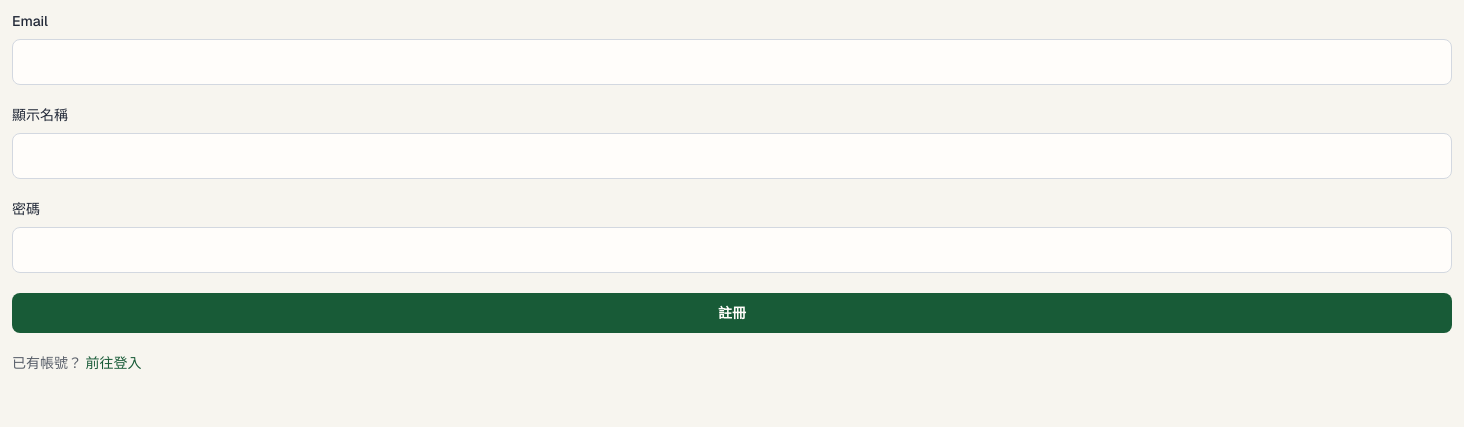
Test case: RegisterForm › 送出後 MSW 回 EMAIL_ALREADY_USED 時顯示對應錯誤文字
The image size is (1464, 427).
Step 1. Type "duplicate@example.com" into the field labelled "Email" → (732,62), box [12, 39, 1452, 85]
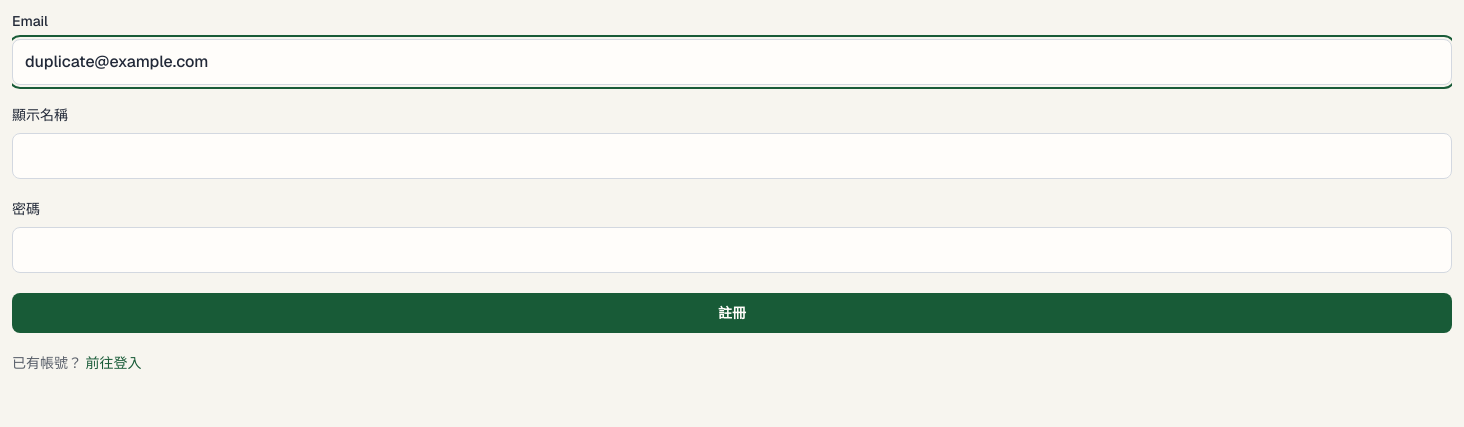
Step 2. Type "重複使用者" into the field labelled "顯示名稱" → (732,156), box [12, 133, 1452, 179]
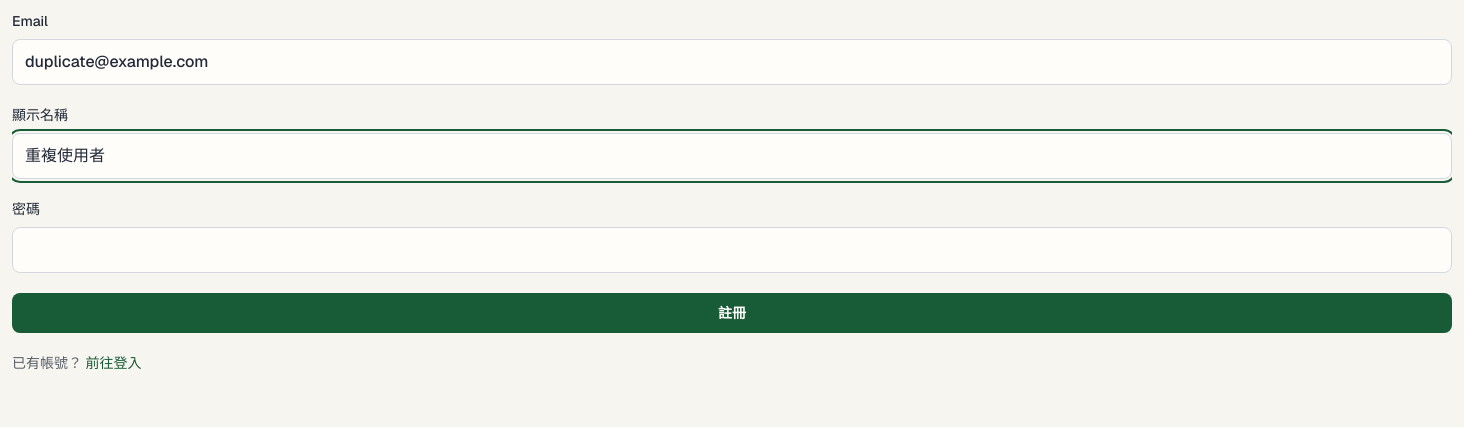
Step 3. Type "password123" into the password field labelled "密碼" → (732,250), box [12, 227, 1452, 273]
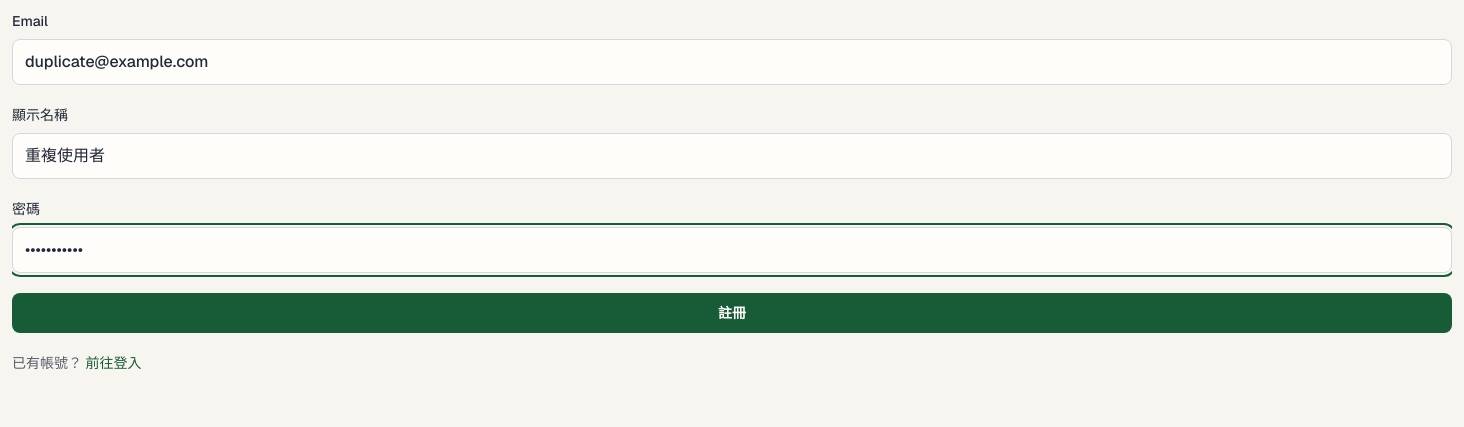
Step 4. Click the button "註冊" → (732,313), box [12, 293, 1452, 333]
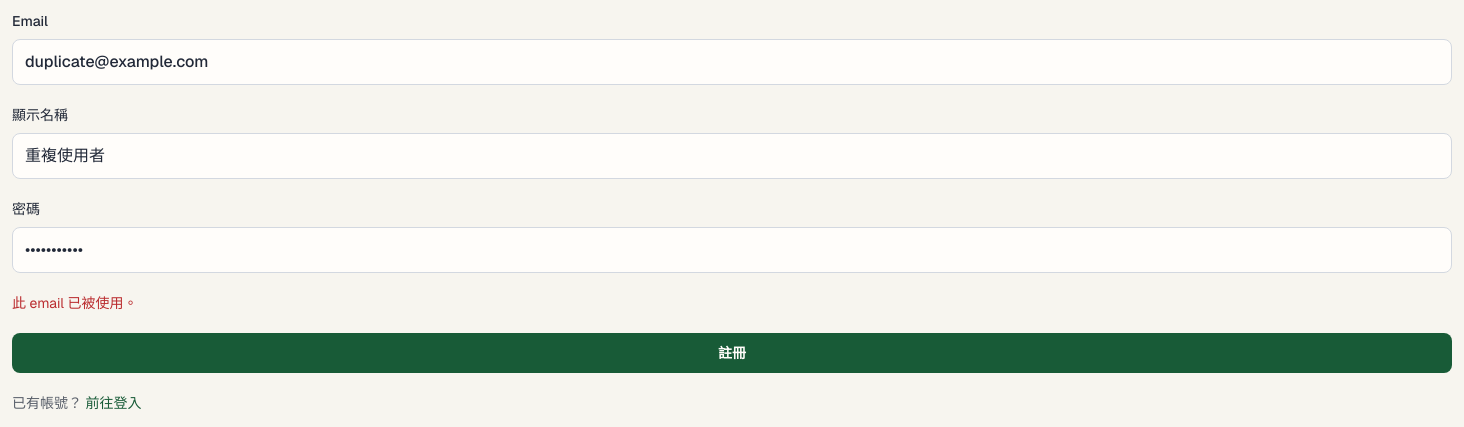
Check: the text "此 email 已被使用。" is shown, box [12, 294, 138, 312]
